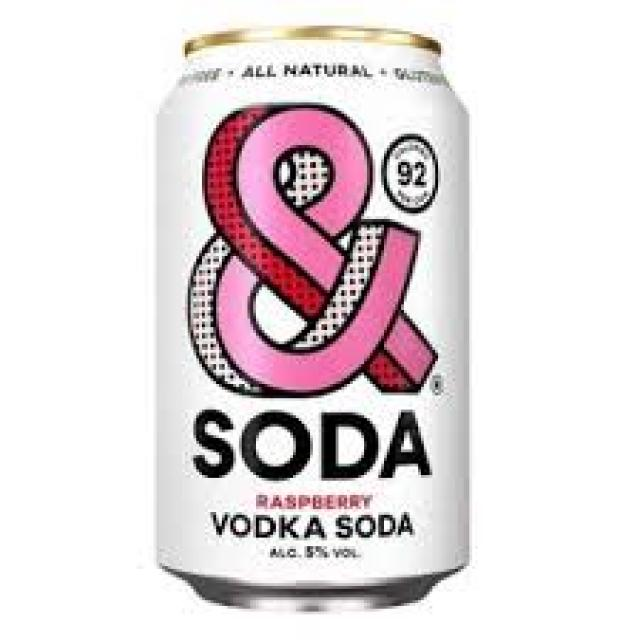Cans: (137, 14, 489, 612)
